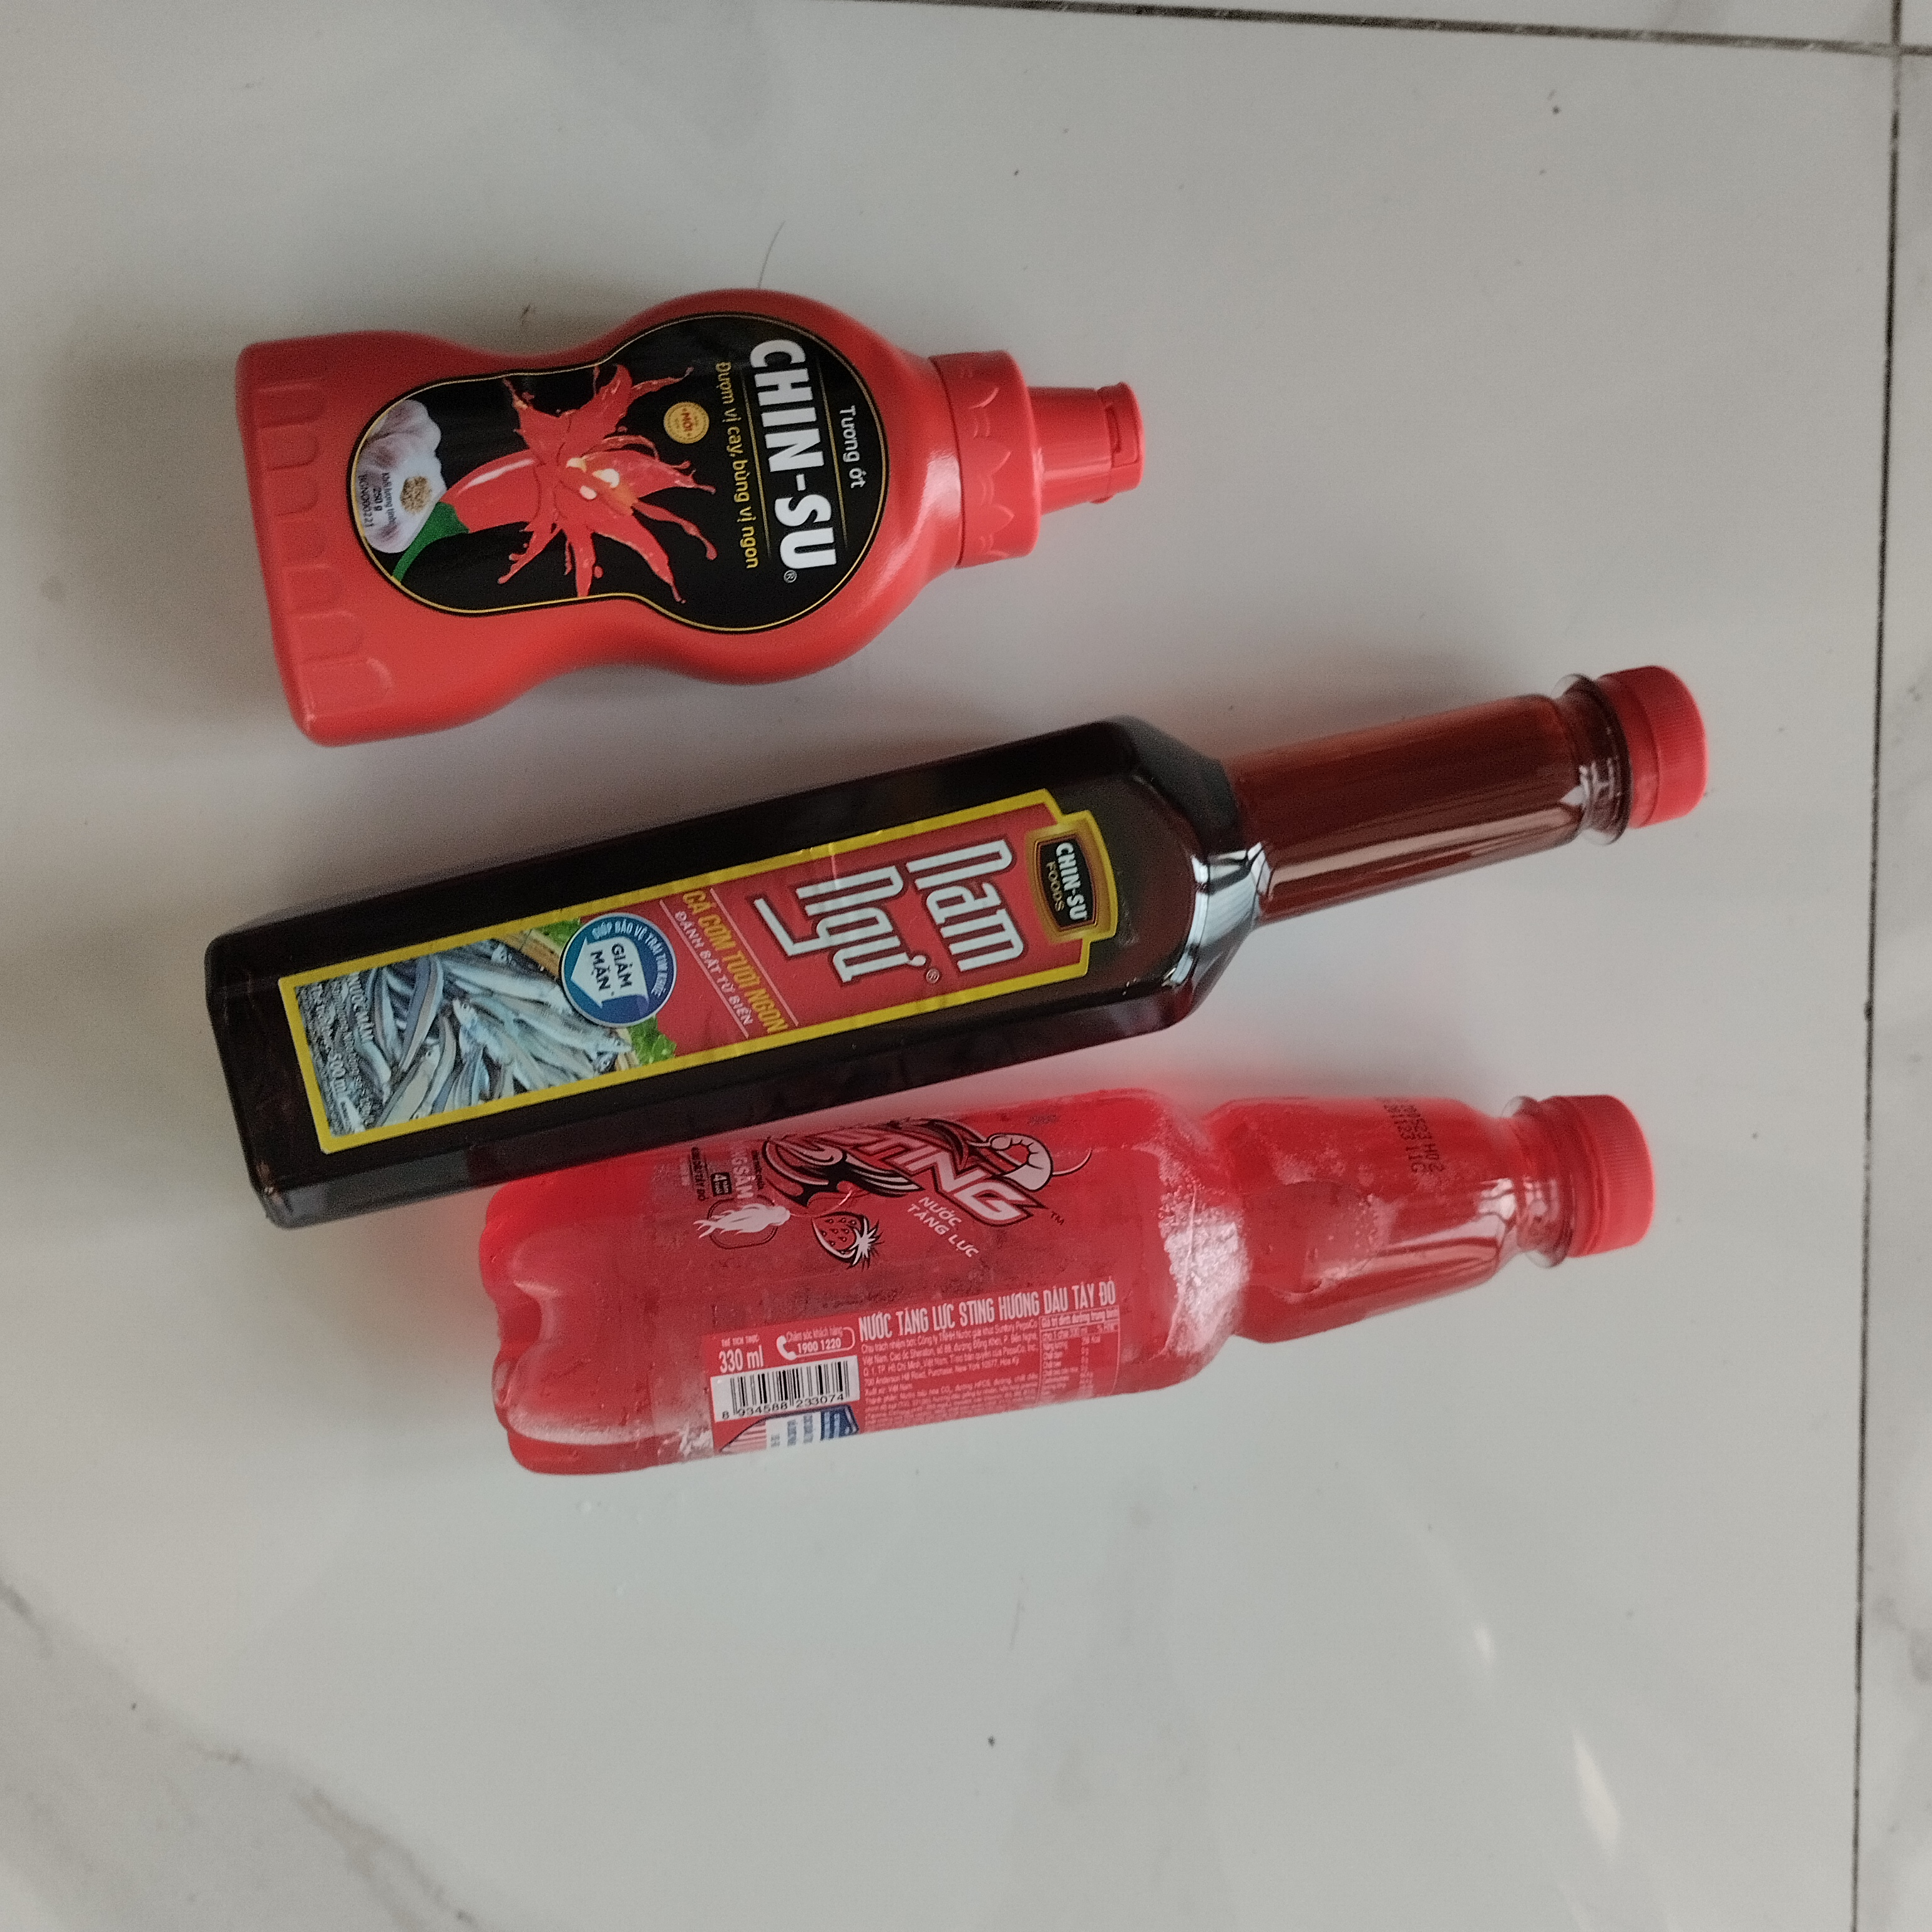Chinsu: (223, 297, 1166, 759)
Namngu: (166, 646, 1718, 1242)
Sting: (464, 1079, 1654, 1493)
